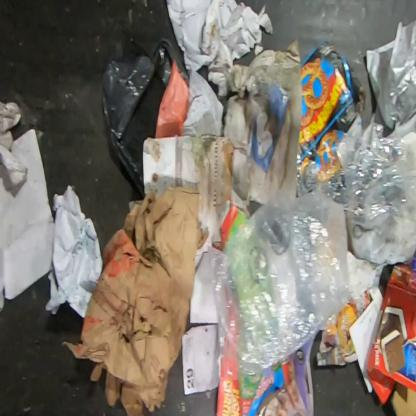cardboard: (366, 263, 415, 406), (298, 38, 360, 142), (390, 382, 415, 415)
soft_plastic: (211, 111, 415, 381), (102, 35, 189, 199), (365, 19, 415, 131), (154, 58, 191, 138)
